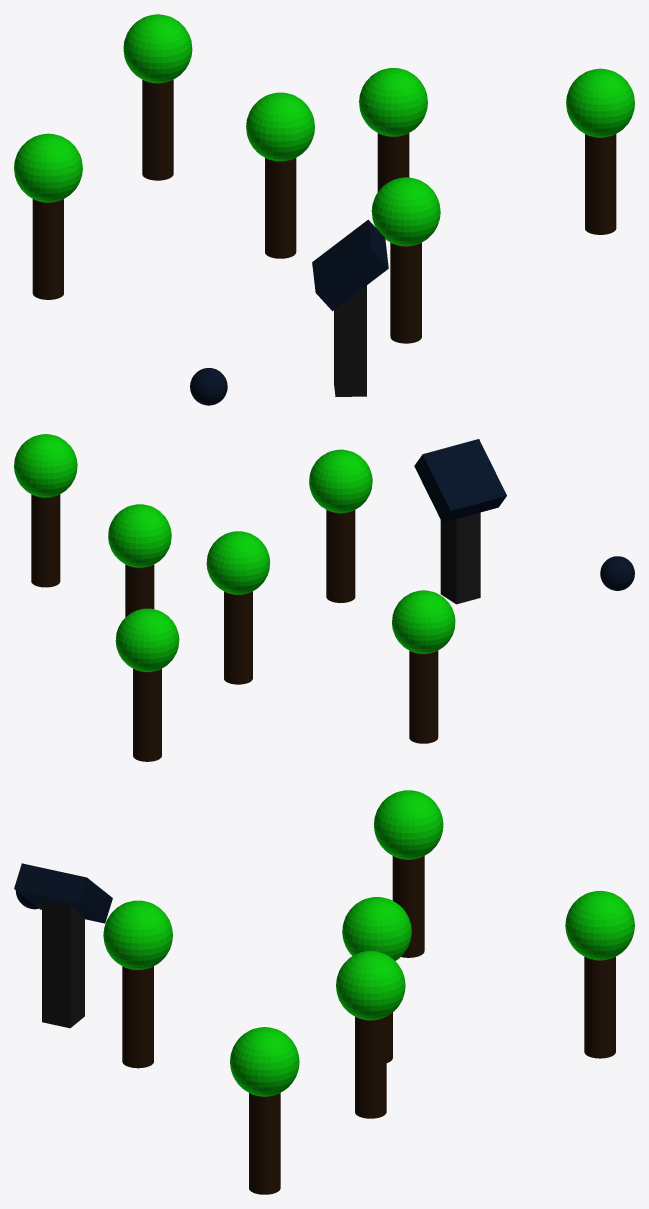
The model's file is exercise20034.obj.
3 views of the same model, one above another, from view 1: azimuth 30°, elevation 25°; view 2: azimuth 150°, elevation 25°; view 3: azimuth 270°, elevation 25° (orthographic). The views are drawn at different scales.
Visible parts, largest first — view 1: Cube.001, Sphere.002, Sphere.003, Sphere.005, Sphere.006, Sphere, Sphere.004, Cube, Cylinder.005, Cylinder.004, Cylinder.006, Cylinder.003 (+3 smaller); view 2: Cube.001, Cube, Sphere, Sphere.004, Sphere.003, Sphere.006, Sphere.002, Sphere.005, Cylinder.003, Cylinder.006, Cylinder.004, Cylinder.002 (+4 smaller); view 3: Cube, Sphere.003, Sphere.006, Sphere.004, Sphere.005, Sphere, Sphere.002, Cube.001, Cylinder.003, Cylinder.005, Cylinder.004, Cylinder (+2 smaller).
Part boxes in pixels (x1,y1,x2,y2): Cube.001: [312, 219, 388, 311]; Sphere.002: [246, 92, 314, 161]; Sphere.003: [566, 68, 634, 137]; Sphere.005: [123, 14, 192, 83]; Sphere.006: [14, 133, 82, 202]; Sphere: [359, 68, 427, 136]; Sphere.004: [371, 177, 440, 246]; Cube: [334, 285, 366, 396]; Cylinder.005: [142, 79, 173, 180]; Cylinder.004: [390, 242, 421, 343]; Cylinder.006: [32, 199, 63, 299]; Cylinder.003: [585, 134, 616, 234]; Cube.001: [414, 439, 506, 522]; Cube: [440, 512, 480, 604]; Sphere: [108, 504, 171, 567]; Sphere.004: [309, 449, 372, 513]; Sphere.003: [14, 434, 77, 497]; Sphere.006: [392, 590, 455, 653]; Sphere.002: [206, 531, 270, 594]; Sphere.005: [115, 608, 179, 671]; Cylinder.003: [31, 494, 60, 587]; Cylinder.006: [409, 650, 438, 743]; Cylinder.004: [326, 510, 355, 602]; Cylinder.002: [224, 591, 252, 684]; Cube: [42, 900, 84, 1028]; Sphere.003: [230, 1027, 299, 1096]; Sphere.006: [374, 790, 443, 859]; Sphere.004: [103, 900, 172, 969]; Sphere.005: [565, 890, 634, 960]; Sphere: [336, 951, 405, 1020]; Sphere.002: [342, 897, 411, 960]; Cube.001: [14, 863, 112, 923]; Cylinder.003: [249, 1093, 280, 1194]; Cylinder.005: [584, 956, 615, 1058]; Cylinder.004: [122, 966, 153, 1068]; Cylinder: [355, 1016, 386, 1118].
Size of what is drawn, in the model's own units: 40.53 by 11.23 by 39.13.
